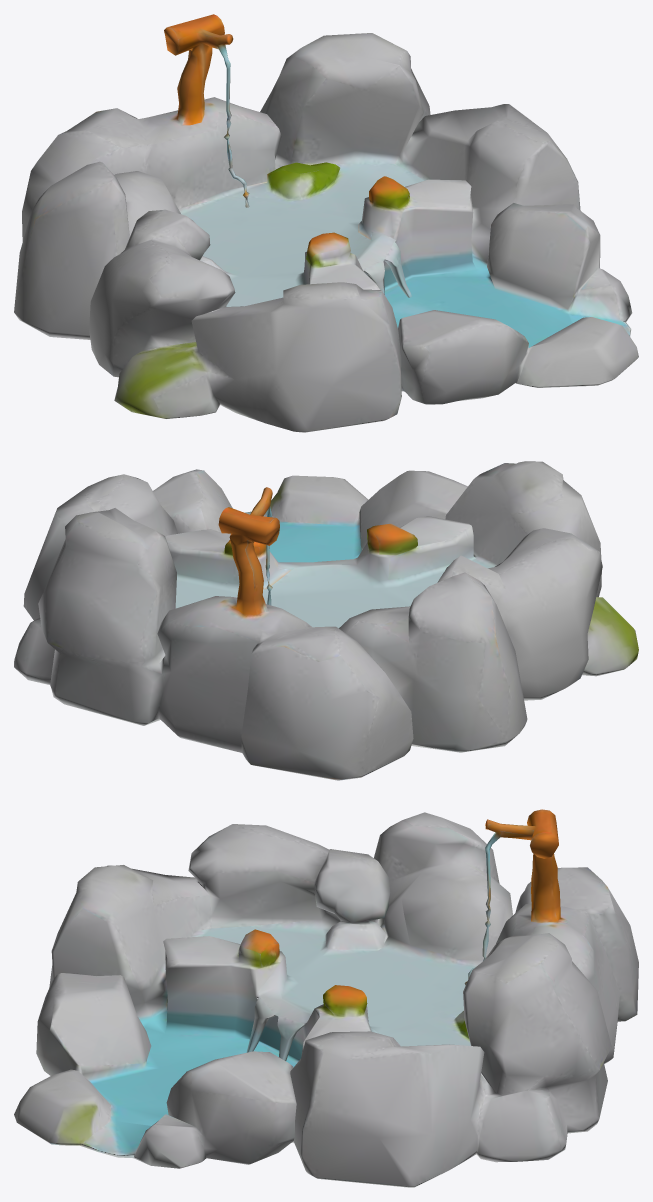
The model's file is spring.glb.
3 views of the same model, one above another, from view 1: azimuth 30°, elevation 25°; view 2: azimuth 150°, elevation 25°; view 3: azimuth 270°, elevation 25° (orthographic). The views are drawn at different scales.
Size of the model in its own units: 0.9575 by 0.3833 by 0.9556.
Materials: 1 (1 with a texture image).
